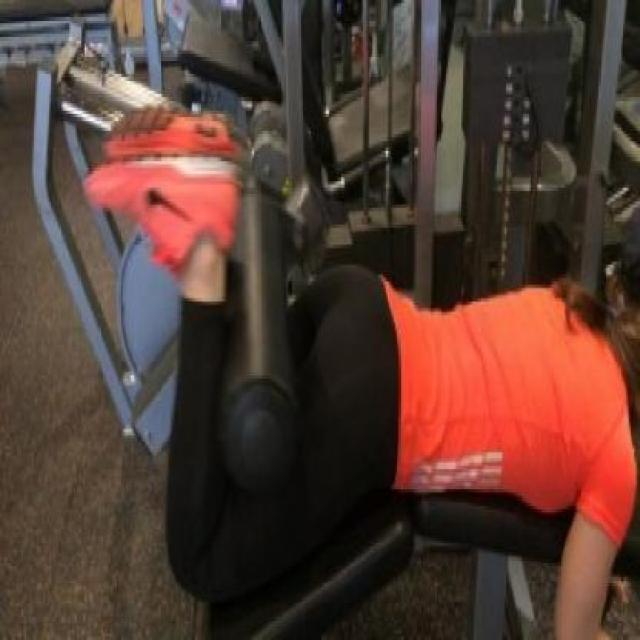reg curl machine: (74, 4, 640, 640)
